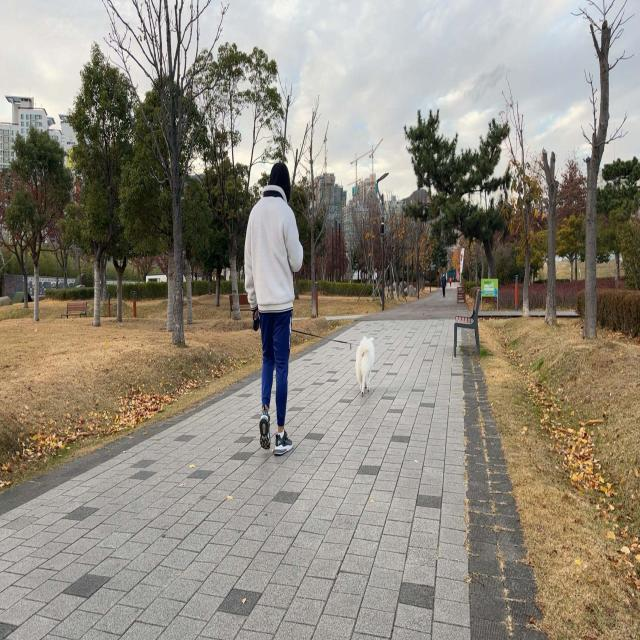Leashed_Dog: (261, 305, 375, 398)
